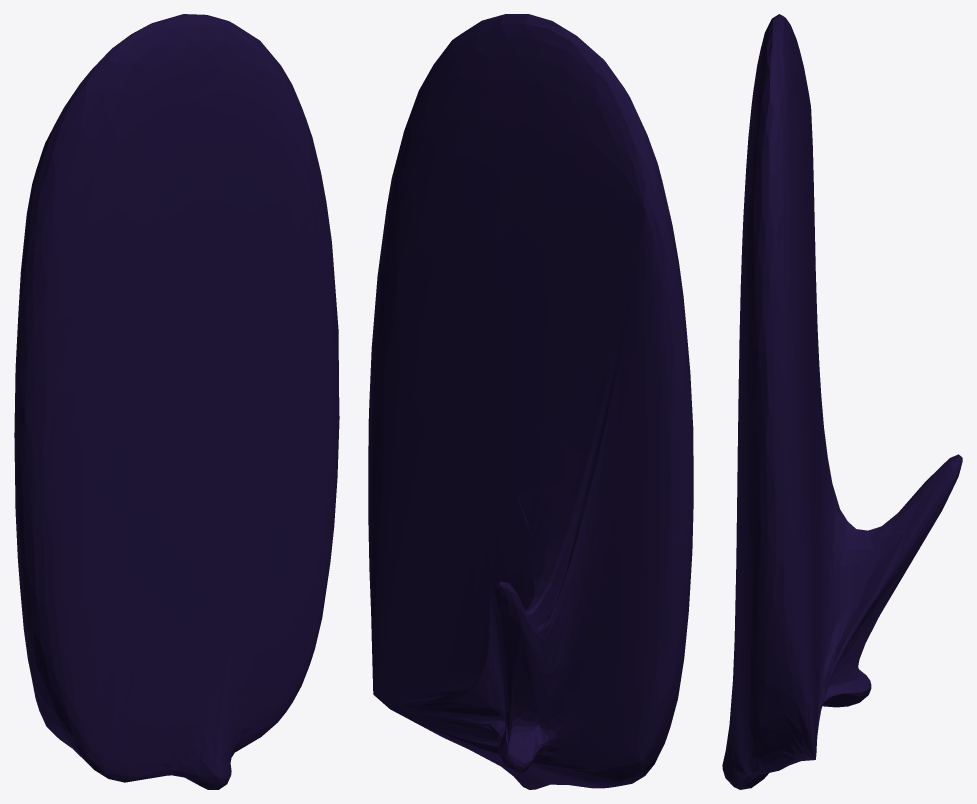
The picture shows the model from 3 angles, left to right: view 1: azimuth 30°, elevation 25°; view 2: azimuth 150°, elevation 25°; view 3: azimuth 270°, elevation 25°; orthographic projection. The views are drawn at different scales.
Parts seen in each view (by area): view 1: 968_Cube.3915; view 2: 968_Cube.3915; view 3: 968_Cube.3915.
Boxes of the visible parts, box(x1,y1,x2,y2) form: 968_Cube.3915: box(14, 14, 339, 789); 968_Cube.3915: box(368, 14, 693, 789); 968_Cube.3915: box(722, 14, 962, 789).
Bounding box in the file's own units: 4.97 × 11.58 × 3.35.
